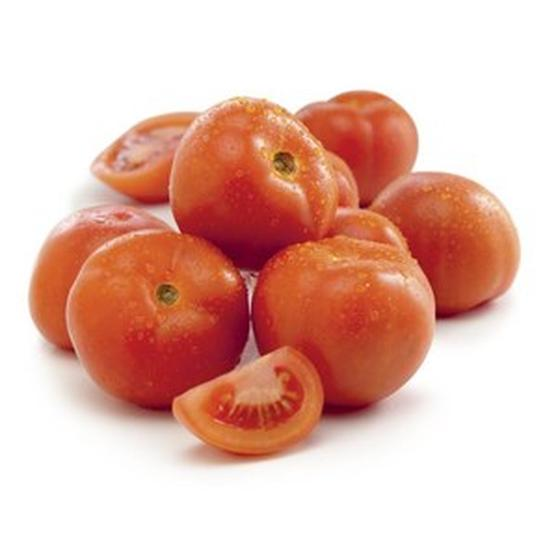tomato: (247, 235, 441, 409), (68, 225, 247, 411), (169, 91, 336, 258)
